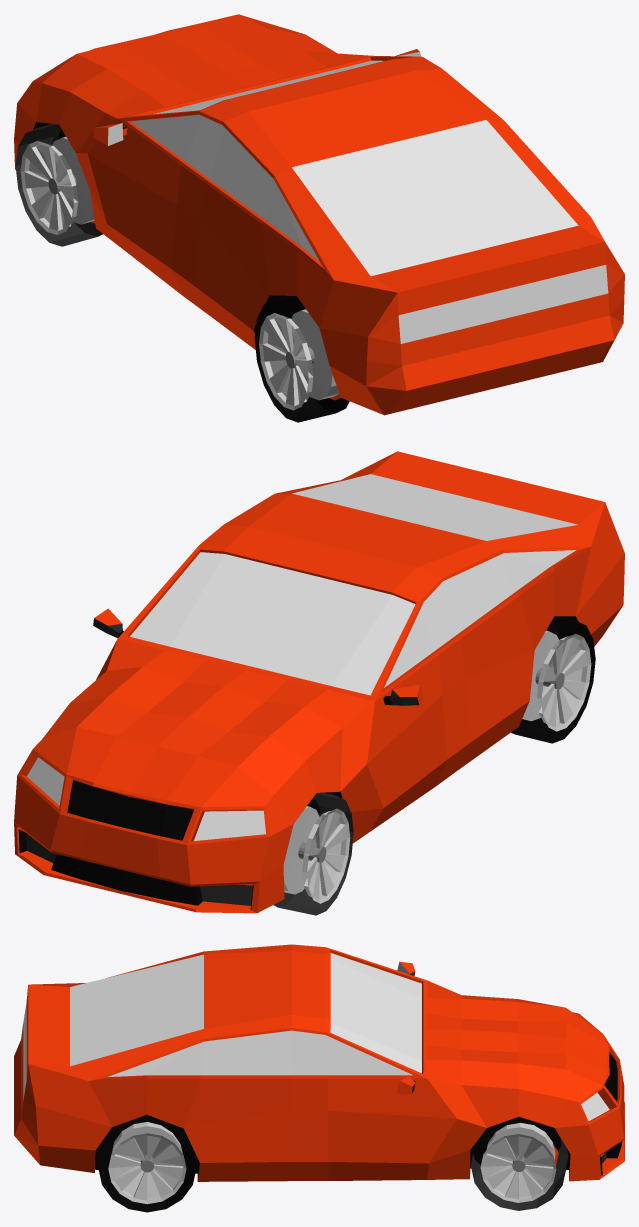
File: Car.fbx
3 renders of one model, top to bottom at view 1: azimuth 30°, elevation 25°; view 2: azimuth 150°, elevation 25°; view 3: azimuth 270°, elevation 25°, orthographic. The views are drawn at different scales.
Visible parts, largest first — view 1: Cube; view 2: Cube; view 3: Cube.
Boxes of the visible parts, box(x1,y1,x2,y2) form: Cube: box(14, 14, 624, 422); Cube: box(14, 451, 624, 915); Cube: box(14, 944, 624, 1212).
Size of the model in its own units: 208 by 138 by 431.
